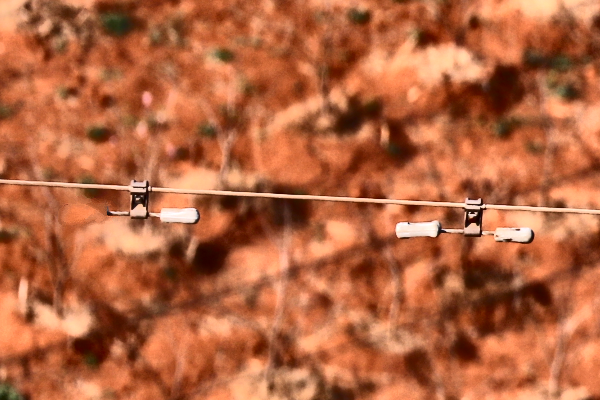damper: (392, 195, 537, 247)
damper_defect: (104, 176, 202, 225)
